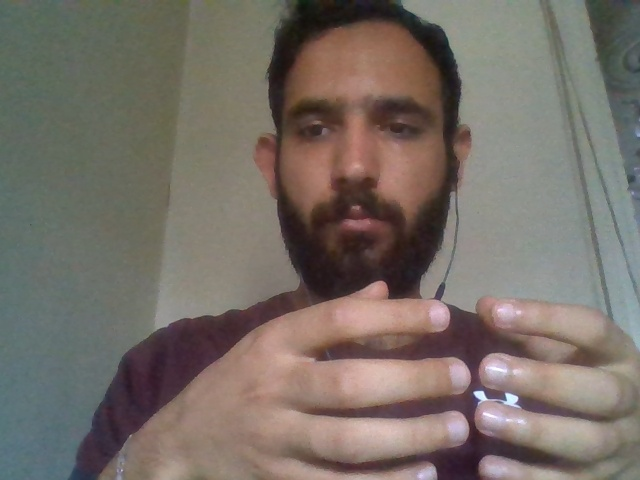Story: (237, 261, 640, 480)
